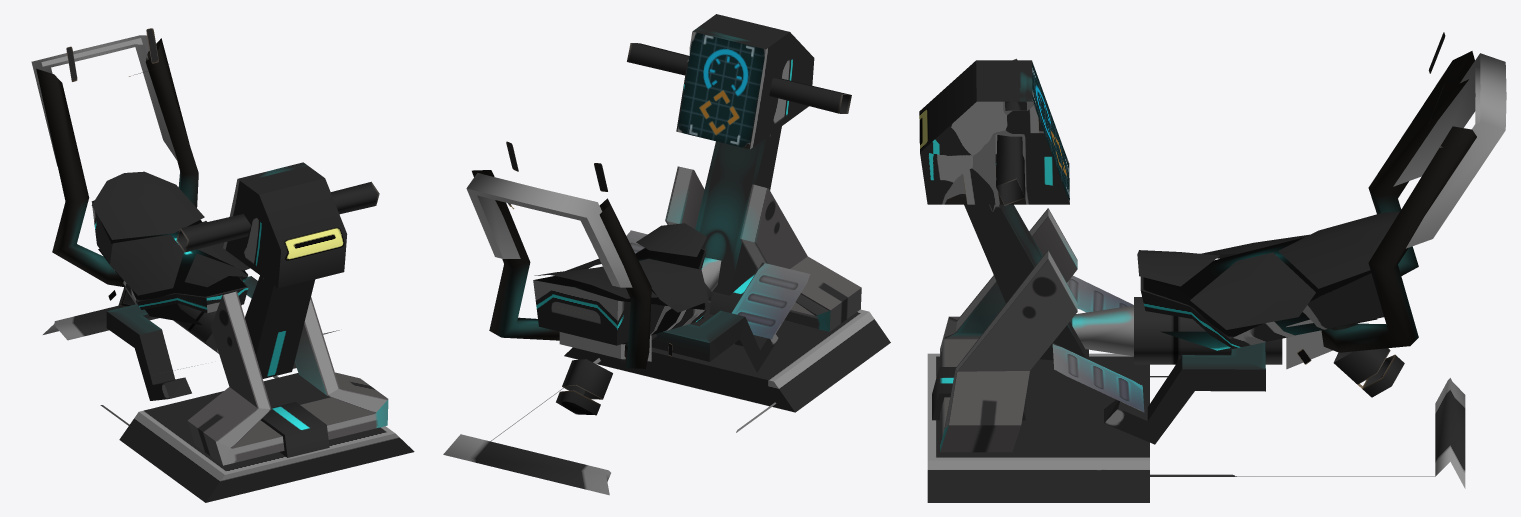
File: obj_interactive_driversaddle_05_lod1.fbx
3 renders of one model, left to right at view 1: azimuth 30°, elevation 25°; view 2: azimuth 150°, elevation 25°; view 3: azimuth 270°, elevation 25°, orthographic. The views are drawn at different scales.
Visible parts, largest first — view 1: polySurface20; view 2: polySurface20; view 3: polySurface20.
Boxes of the visible parts, x1,y1,x2,y2 form: polySurface20: [31, 28, 414, 502]; polySurface20: [443, 14, 890, 495]; polySurface20: [919, 32, 1506, 502].
Size of the model in its own units: 3 by 3.83 by 5.23.
1 material, 1 textured.
